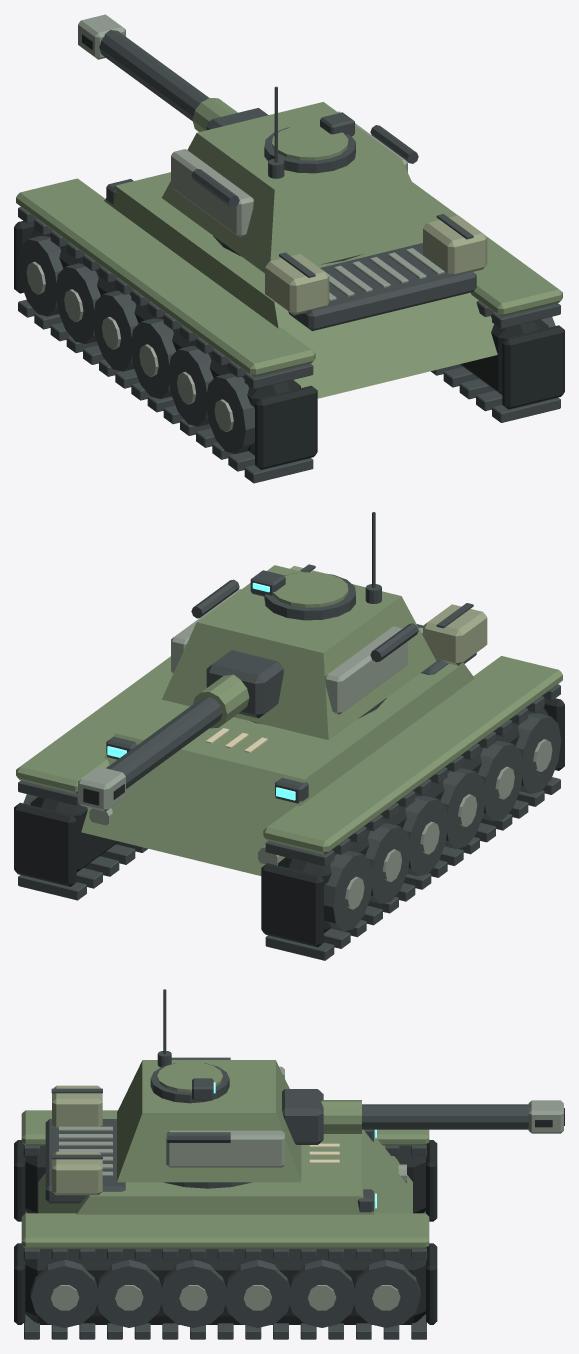
File: tank_recruit_premium.glb
3 views of the same model, one above another, from view 1: azimuth 30°, elevation 25°; view 2: azimuth 150°, elevation 25°; view 3: azimuth 270°, elevation 25° (orthographic). The views are drawn at different scales.
Parts seen in each view (by area): view 1: tank_recruit_mk2_TankPaint.003, tank_recruit_mk2_RunningGear, tank_recruit_mk2_TankPaint.004, tank_recruit_mk2_TankTracks, tank_recruit_mk2_RunningGear.003, tank_recruit_mk2_Canvas, tank_recruit_mk2_ArmorEdges, tank_recruit_mk2_ArmorEdges.003; view 2: tank_recruit_mk2_TankPaint.003, tank_recruit_mk2_RunningGear, tank_recruit_mk2_TankPaint.004, tank_recruit_mk2_TankTracks, tank_recruit_mk2_RunningGear.003, tank_recruit_mk2_ArmorEdges.003, tank_recruit_mk2_ArmorEdges, tank_recruit_mk2_Canvas; view 3: tank_recruit_mk2_TankPaint.003, tank_recruit_mk2_RunningGear, tank_recruit_mk2_TankPaint.004, tank_recruit_mk2_TankTracks, tank_recruit_mk2_RunningGear.003, tank_recruit_mk2_ArmorEdges, tank_recruit_mk2_ArmorEdges.003, tank_recruit_mk2_Canvas, tank_recruit_mk2_Markings.
Part boxes in pixels (x1,y1,x2,y2): tank_recruit_mk2_TankPaint.003: (16, 172, 562, 398); tank_recruit_mk2_RunningGear: (17, 179, 560, 483); tank_recruit_mk2_TankPaint.004: (162, 98, 429, 273); tank_recruit_mk2_TankTracks: (14, 221, 564, 469); tank_recruit_mk2_RunningGear.003: (99, 30, 418, 264); tank_recruit_mk2_Canvas: (265, 215, 487, 315); tank_recruit_mk2_ArmorEdges: (26, 248, 444, 432); tank_recruit_mk2_ArmorEdges.003: (78, 14, 407, 237); tank_recruit_mk2_TankPaint.003: (16, 656, 562, 875); tank_recruit_mk2_RunningGear: (18, 564, 561, 960); tank_recruit_mk2_TankPaint.004: (162, 565, 436, 739); tank_recruit_mk2_TankTracks: (14, 698, 564, 947); tank_recruit_mk2_RunningGear.003: (106, 512, 418, 788); tank_recruit_mk2_ArmorEdges.003: (78, 589, 407, 811); tank_recruit_mk2_ArmorEdges: (89, 627, 552, 909); tank_recruit_mk2_Canvas: (290, 566, 487, 665); tank_recruit_mk2_TankPaint.003: (21, 1110, 429, 1248); tank_recruit_mk2_RunningGear: (24, 1088, 426, 1339); tank_recruit_mk2_TankPaint.004: (117, 1060, 361, 1182); tank_recruit_mk2_TankTracks: (14, 1140, 437, 1324); tank_recruit_mk2_RunningGear.003: (150, 989, 531, 1188); tank_recruit_mk2_ArmorEdges: (50, 1126, 406, 1310); tank_recruit_mk2_ArmorEdges.003: (166, 1066, 563, 1167); tank_recruit_mk2_Canvas: (52, 1085, 102, 1195); tank_recruit_mk2_Markings: (309, 1143, 339, 1163).
Size of the model in its own units: 2.5 by 2.31 by 4.35.
